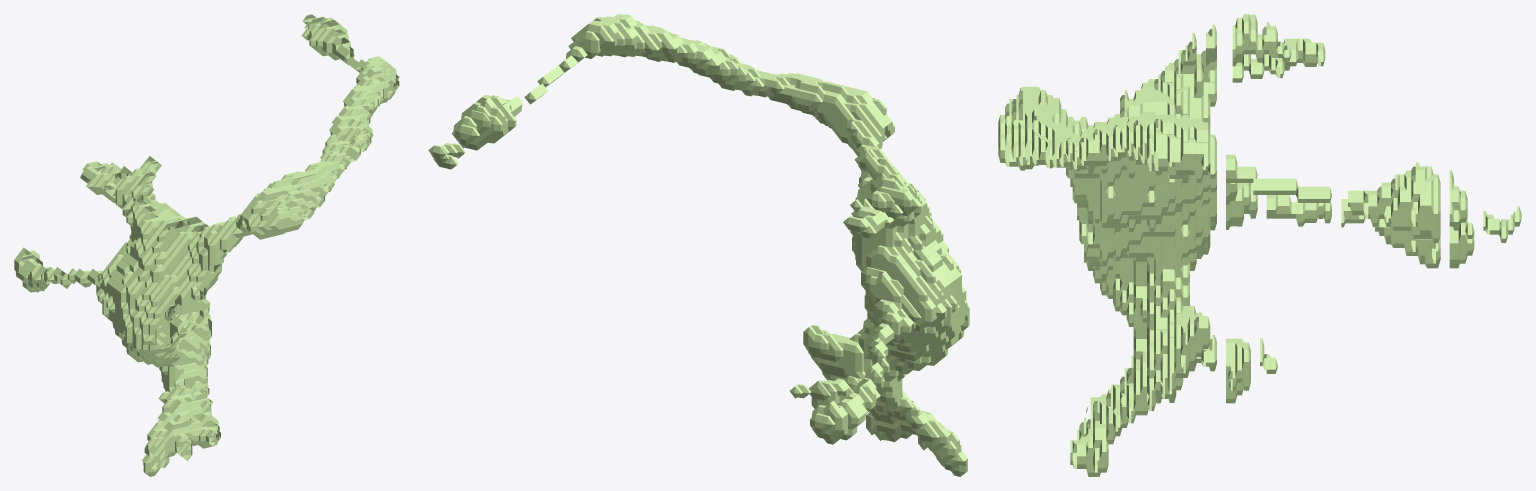
The model's file is SVV_URBR.gltf.
The picture shows the model from 3 angles, left to right: view 1: azimuth 30°, elevation 25°; view 2: azimuth 150°, elevation 25°; view 3: azimuth 270°, elevation 25°; orthographic projection. The views are drawn at different scales.
Visible parts, largest first — view 1: URBR; view 2: URBR; view 3: URBR.
Boxes of the visible parts, <box> form: URBR: <box>14,14,399,476</box>; URBR: <box>428,14,969,476</box>; URBR: <box>998,14,1521,476</box>.
Bounding box in the file's own units: 34318 × 33295 × 29707.
